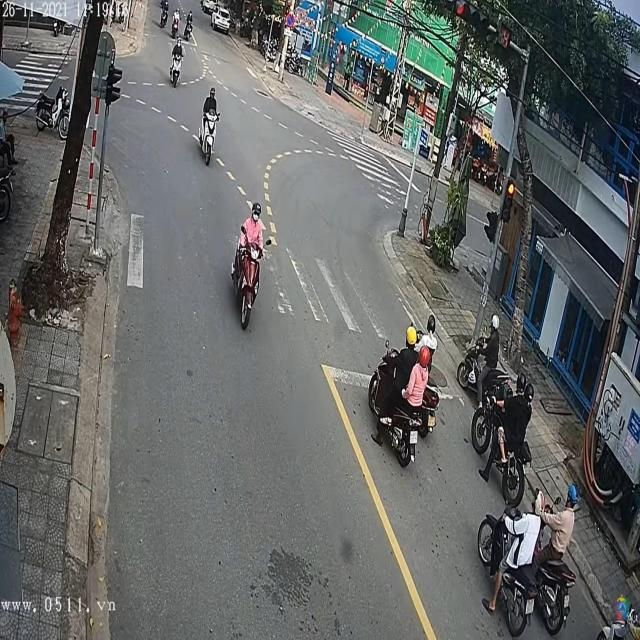motorcycle: (478, 496, 538, 640), (366, 338, 421, 476), (472, 379, 528, 503), (232, 231, 266, 331), (200, 105, 219, 163), (168, 49, 184, 89)
